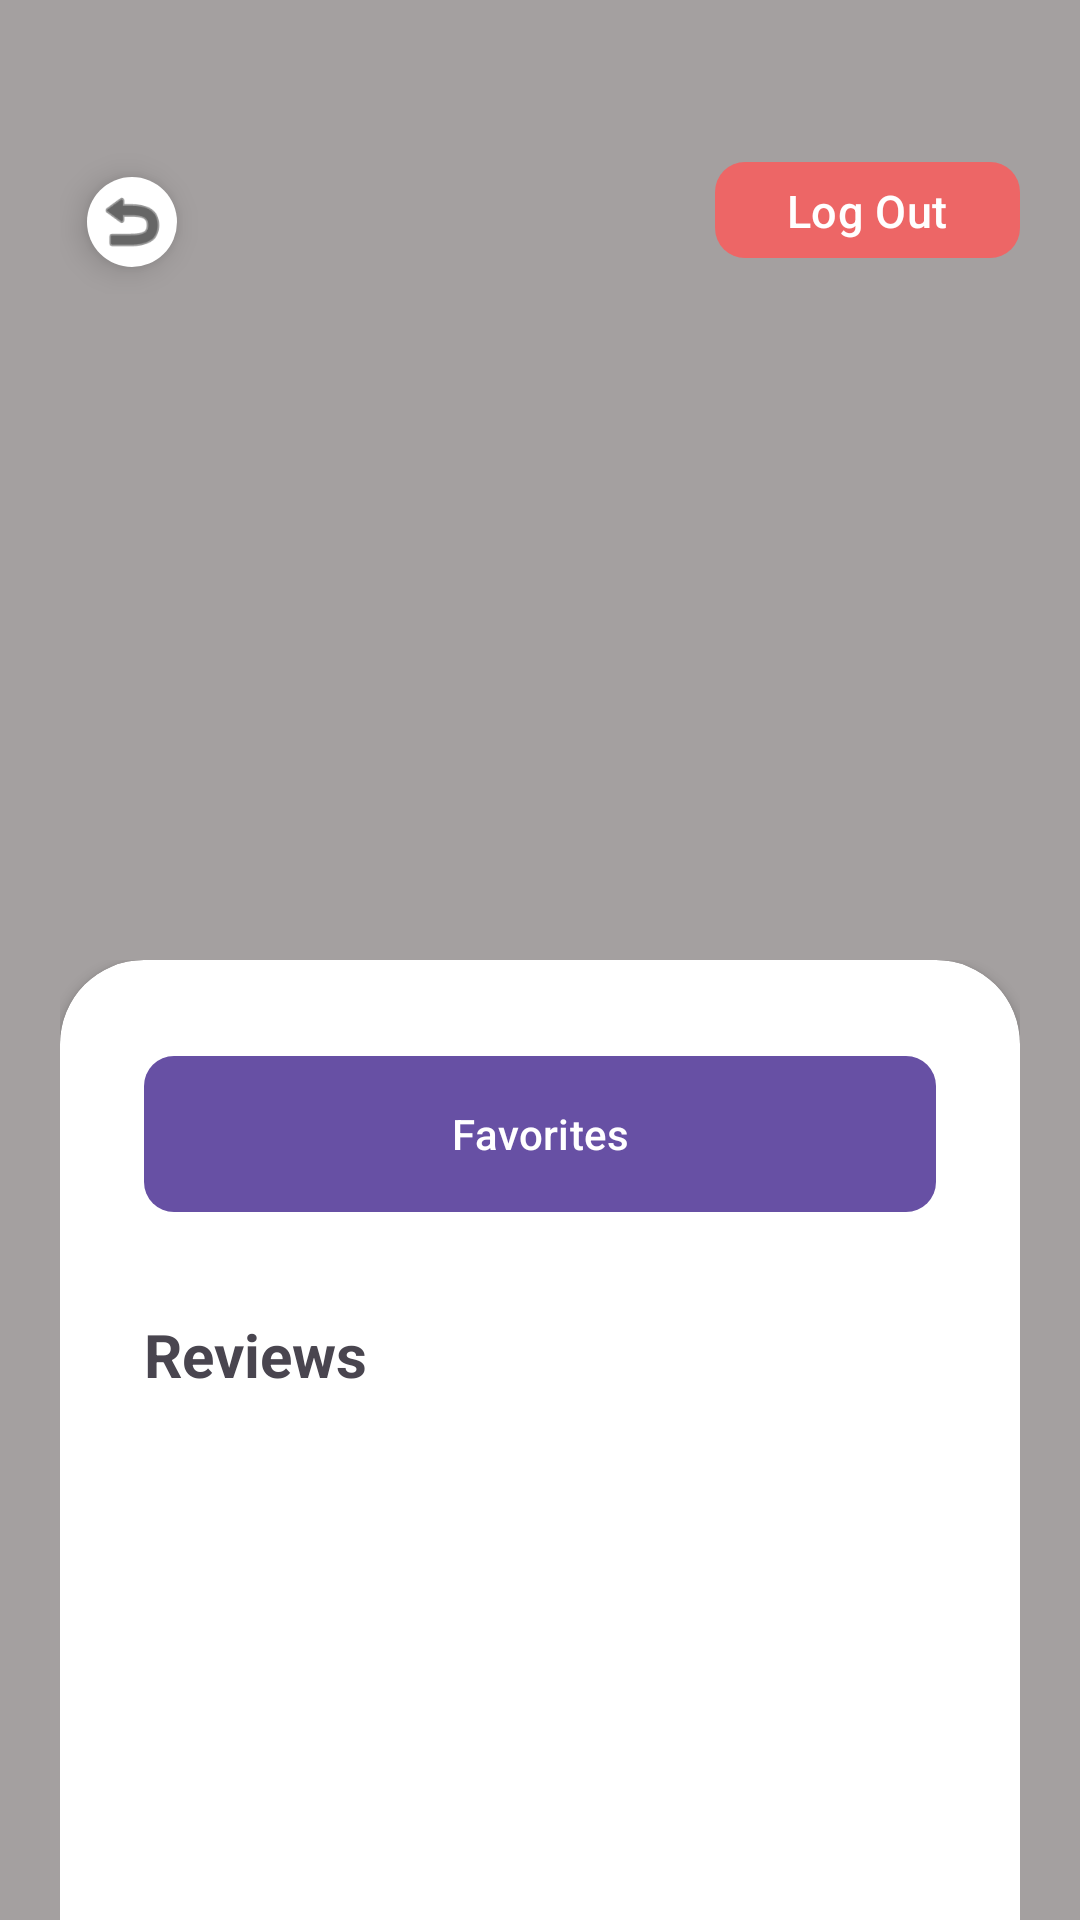

Screen size 1080 × 1920. Icon name, then its box in pixels as (x1, y1, x2, y2):
revert: (87, 177, 177, 267)
